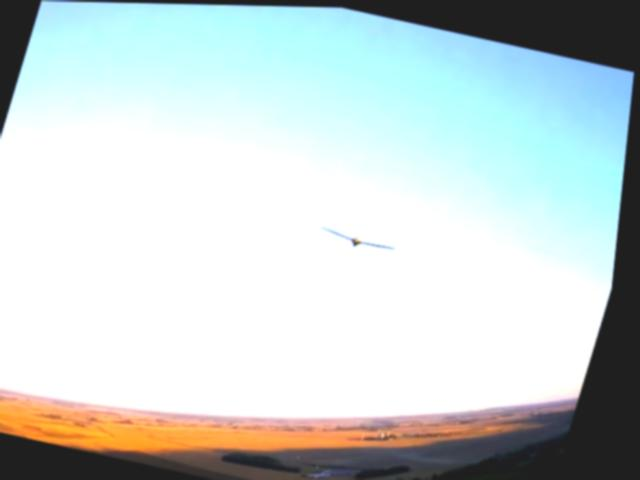plane: (320, 220, 402, 255)
